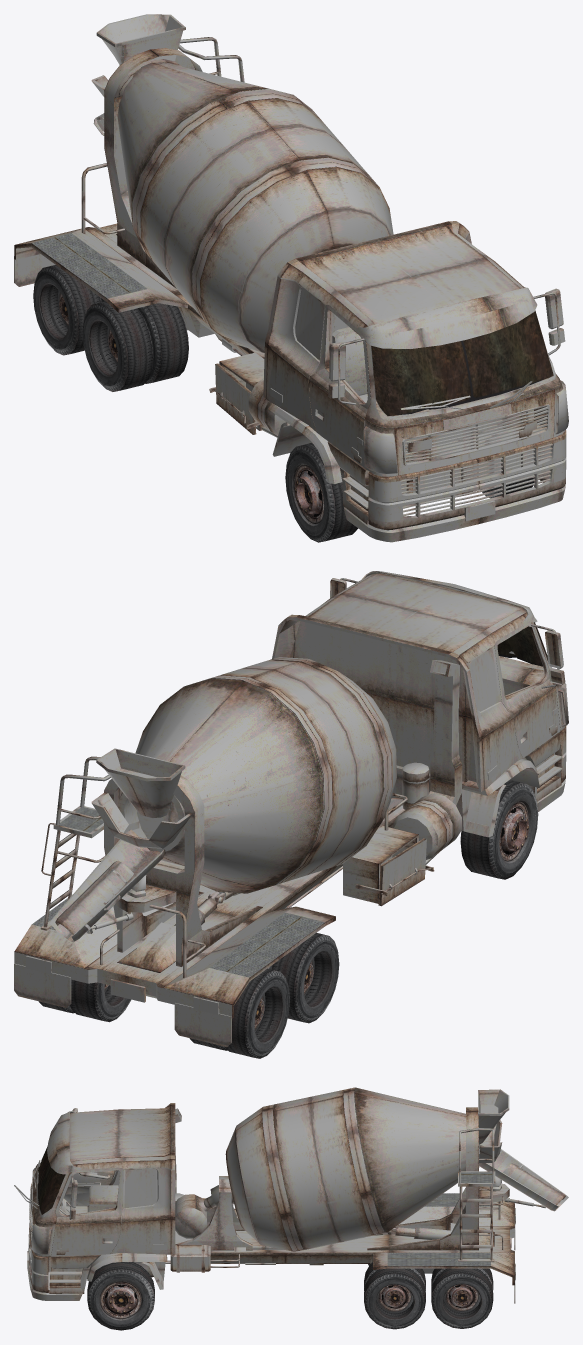
File: volvo-truck.glb
3 renders of one model, top to bottom at view 1: azimuth 30°, elevation 25°; view 2: azimuth 150°, elevation 25°; view 3: azimuth 270°, elevation 25°, orthographic. The views are drawn at different scales.
Parts seen in each view (by area): view 1: Car_Body, RB_Wheel, RF_Wheel, RB_Wheel1; view 2: Car_Body, RF_Wheel, RB_Wheel1, RB_Wheel, LB_Wheel1; view 3: Car_Body, LF_Wheel, LB_Wheel, LB_Wheel1.
Part boxes in pixels (<box>): Car_Body: <box>14,14,568,542</box>; RB_Wheel: <box>82,301,188,391</box>; RF_Wheel: <box>285,443,357,542</box>; RB_Wheel1: <box>33,265,104,355</box>; Car_Body: <box>14,571,568,1046</box>; RF_Wheel: <box>460,780,538,879</box>; RB_Wheel1: <box>189,968,289,1058</box>; RB_Wheel: <box>268,932,339,1023</box>; LB_Wheel1: <box>39,979,131,1022</box>; Car_Body: <box>14,1087,568,1303</box>; LF_Wheel: <box>87,1262,154,1330</box>; LB_Wheel: <box>364,1262,425,1329</box>; LB_Wheel1: <box>431,1268,493,1328</box>.
Size of the model in its own units: 3.49 by 4.23 by 10.49.
Materials: 4 (4 with a texture image).
